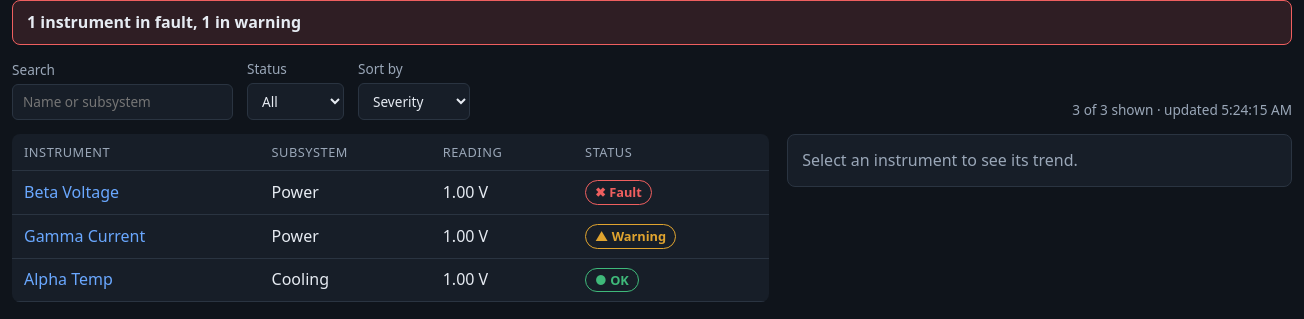
Test case: Dashboard › filters by search text and by status
Step 1. Type "power" into the search field labelled "Search" → x=122, y=102, box top-left (12, 84), bottom-right (233, 120)
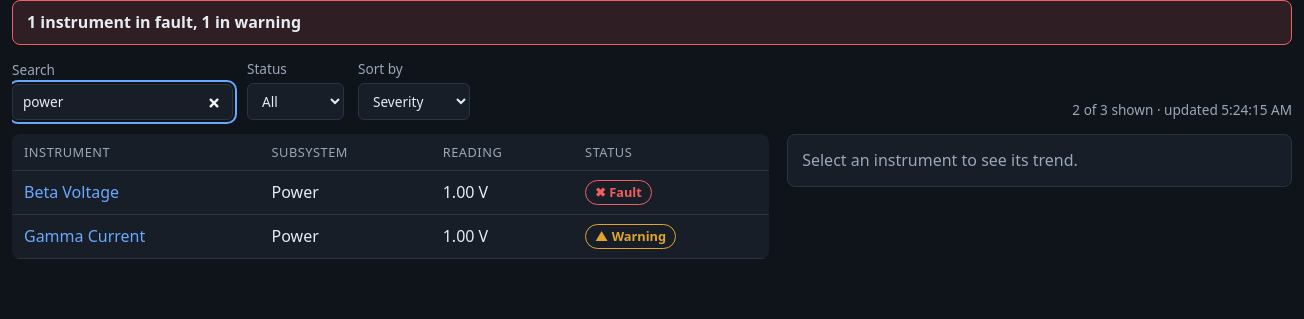
Check: the number of rows with test id "instrument-row" is 2, box top-left (12, 171), bottom-right (769, 214); top-left (12, 214), bottom-right (769, 258)
Step 2. Select "Warning" in the dropdown labelled "Status" → x=296, y=101, box top-left (247, 83), bottom-right (344, 120)
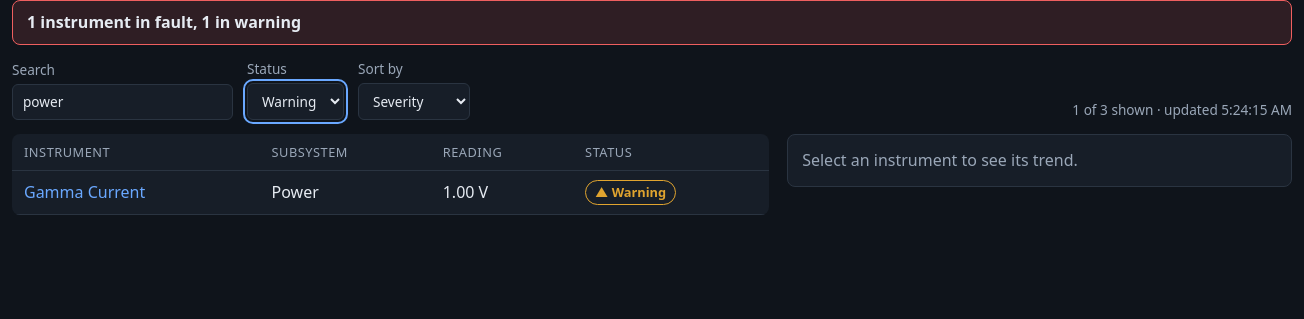
Check: the button "Gamma Current" is shown, box top-left (24, 181), bottom-right (145, 204)
Check: the number of rows with test id "instrument-row" is 1, box top-left (12, 171), bottom-right (769, 214)
Check: the text "1 of 3 shown" is shown, box top-left (1072, 100), bottom-right (1292, 120)
